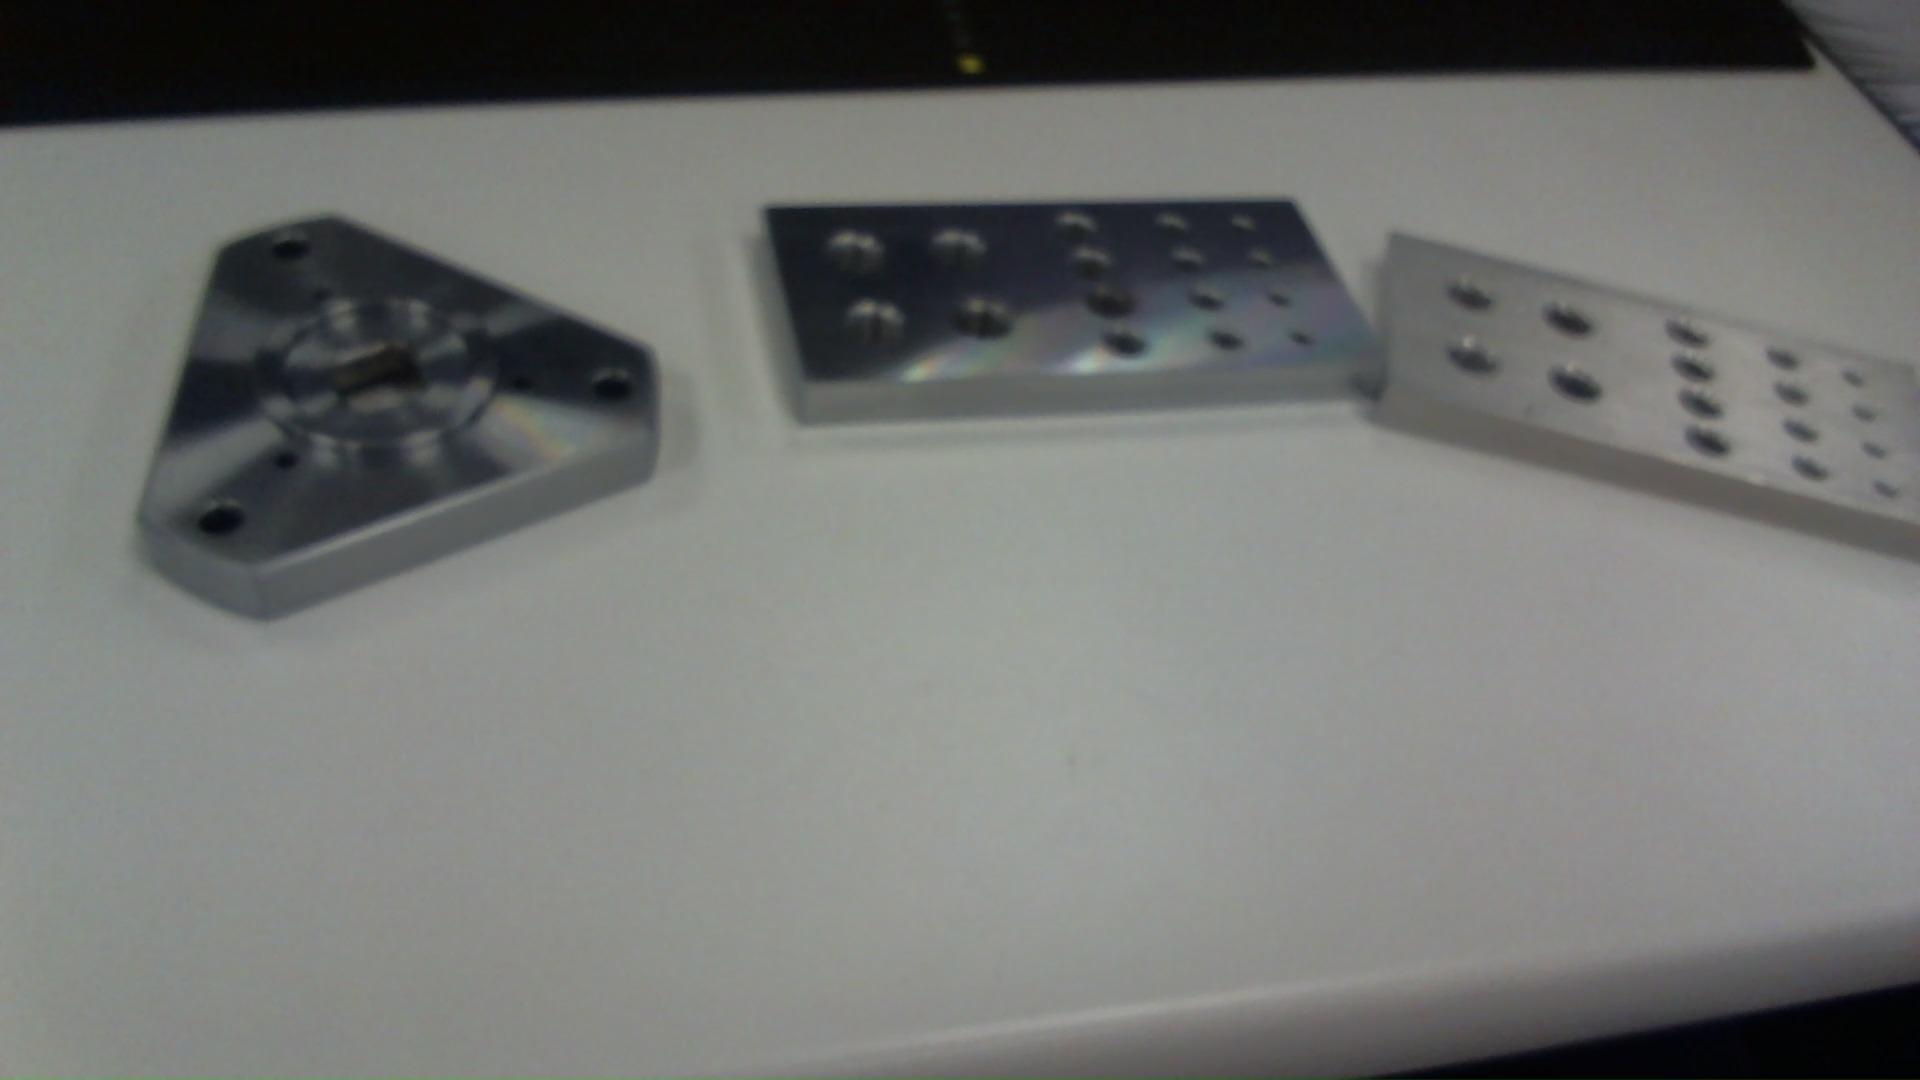hole: (818, 225, 887, 280), (841, 297, 907, 352), (948, 294, 1013, 349), (922, 220, 989, 272), (1443, 331, 1502, 386), (190, 502, 257, 549), (1544, 361, 1600, 411), (1080, 287, 1150, 326), (1543, 301, 1607, 342), (1443, 270, 1495, 316), (1668, 349, 1722, 390), (1683, 421, 1731, 465), (1095, 331, 1159, 364), (1067, 247, 1122, 284), (1675, 389, 1725, 427), (584, 369, 633, 407), (1662, 316, 1716, 349), (268, 231, 315, 266), (1776, 380, 1820, 417), (1780, 415, 1826, 448), (1047, 211, 1102, 237), (1187, 285, 1228, 318), (1764, 338, 1805, 371), (1787, 454, 1828, 487), (1167, 245, 1209, 277), (1211, 324, 1250, 356), (1851, 396, 1886, 430), (269, 451, 305, 483), (508, 365, 538, 401), (1865, 435, 1894, 467), (1226, 211, 1255, 240), (1265, 284, 1294, 311), (1154, 214, 1189, 236), (1244, 249, 1269, 278), (1873, 472, 1894, 502), (1841, 367, 1865, 390)
